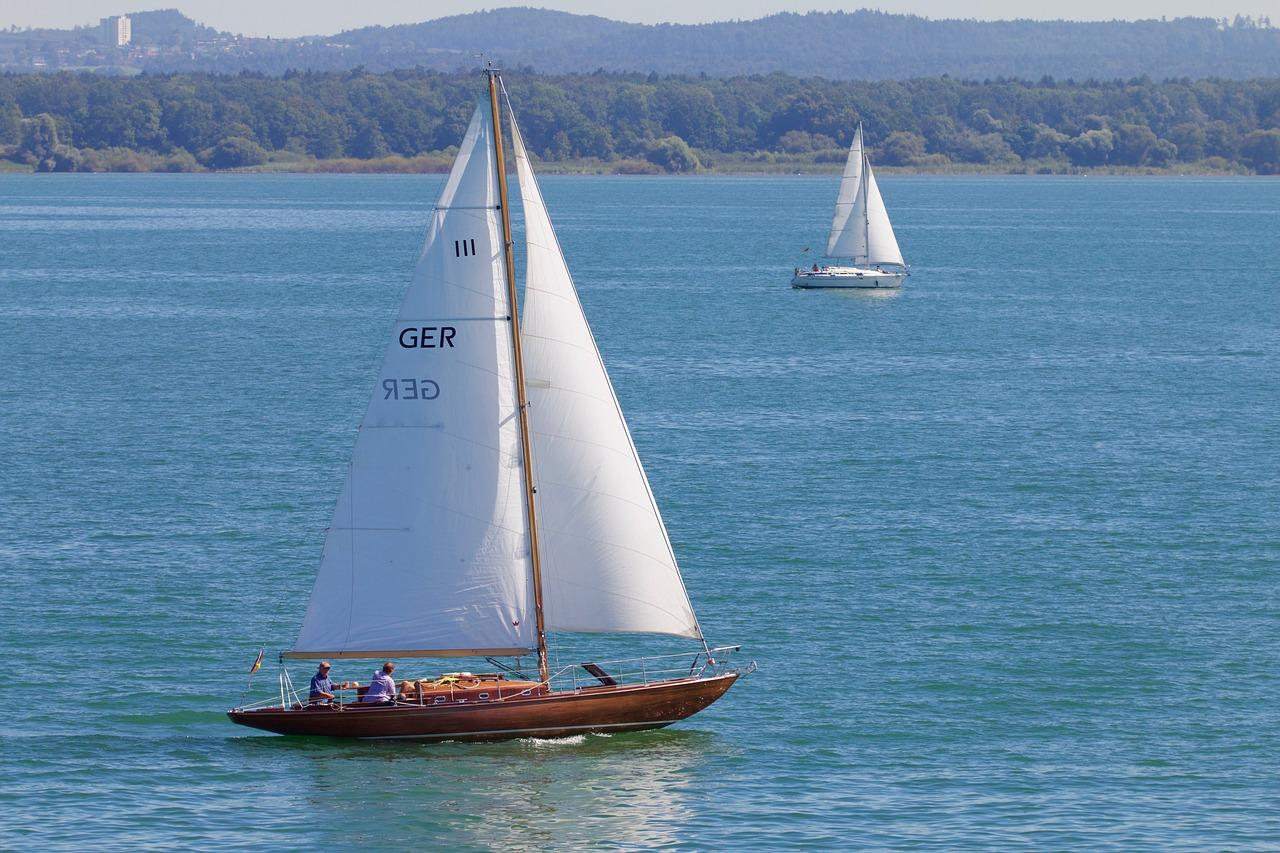Ship: (227, 63, 741, 740), (792, 118, 908, 293)
